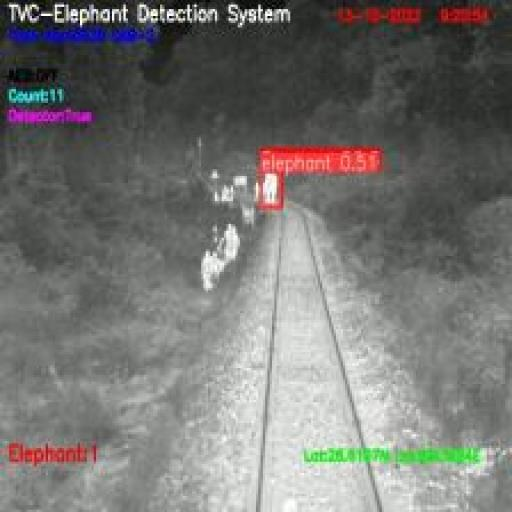Elephant: (261, 171, 280, 207)
